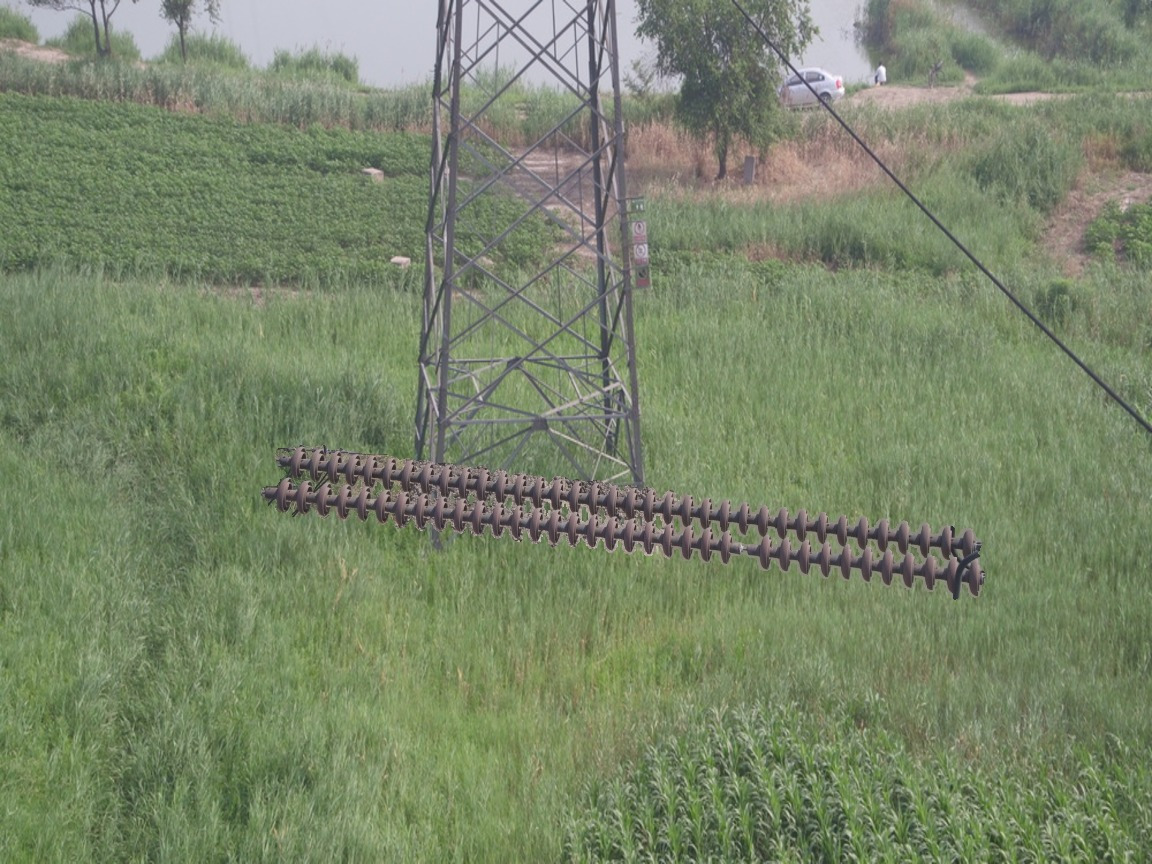defect: (710, 526, 778, 571)
